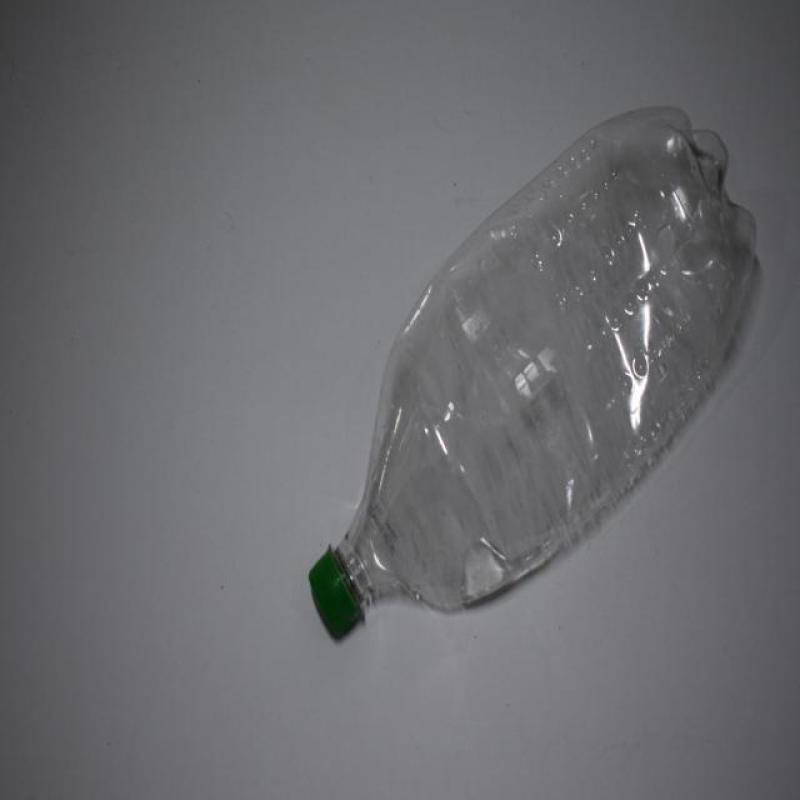botella: (305, 100, 760, 646)
